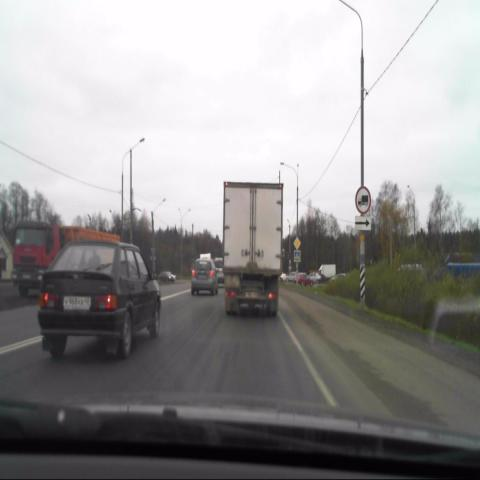3_4_1: (354, 184, 371, 214)
8_3_1: (354, 215, 372, 231)
